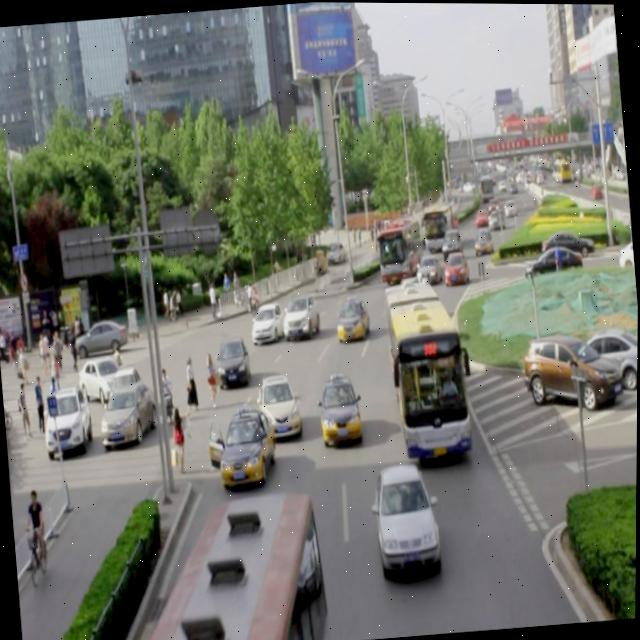car: (370, 460, 441, 572), (214, 406, 280, 490), (316, 373, 363, 448), (256, 370, 302, 435), (280, 290, 320, 338), (215, 335, 252, 386), (249, 298, 285, 344), (418, 299, 452, 347), (334, 296, 369, 340), (414, 274, 443, 314), (413, 250, 442, 286), (442, 247, 469, 283)
van: (128, 484, 331, 640), (381, 278, 472, 461), (376, 213, 426, 282)
